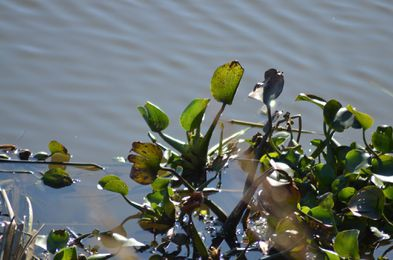water_hyacinth: (95, 58, 392, 260)
